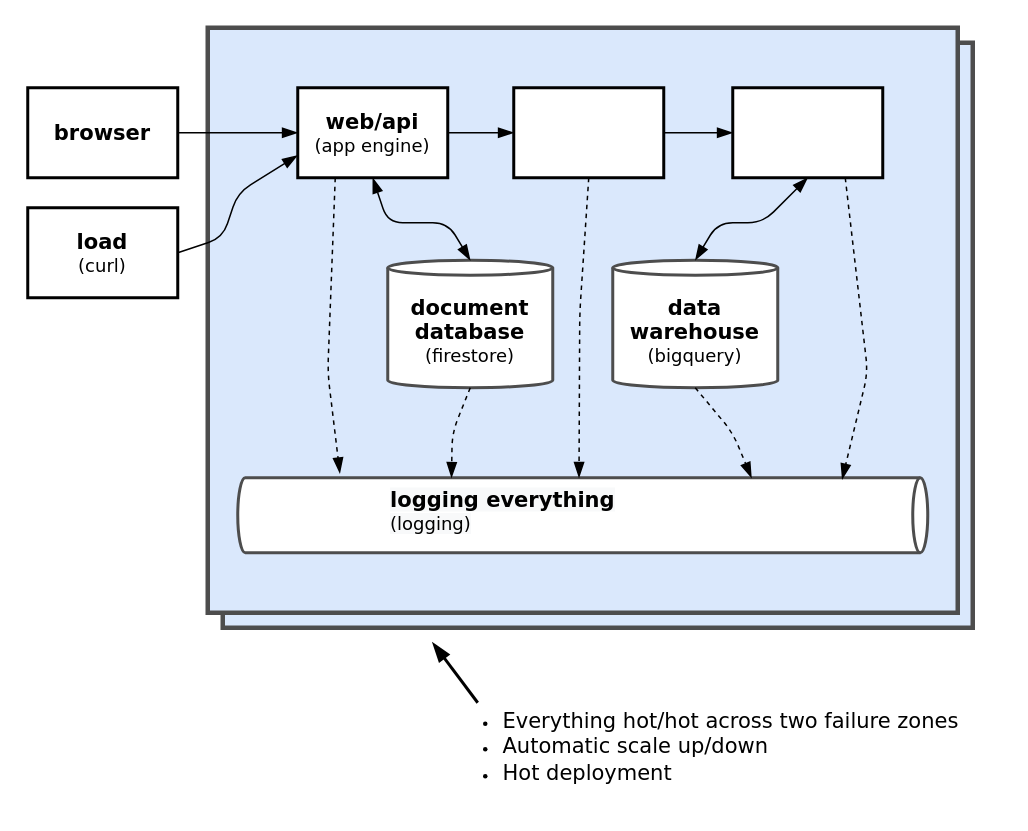
Image size: 1028x831. Some labels were removed from this diagram. The box of each missing label's shape, as (x1, y1, x2, y2) in pixels:
backend (app engine): (730, 86, 884, 178)
task queue (cloud tasks): (512, 86, 664, 178)
